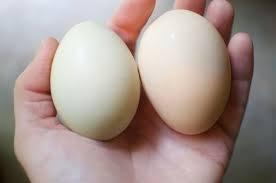egg: (141, 8, 230, 137), (50, 20, 140, 139)
